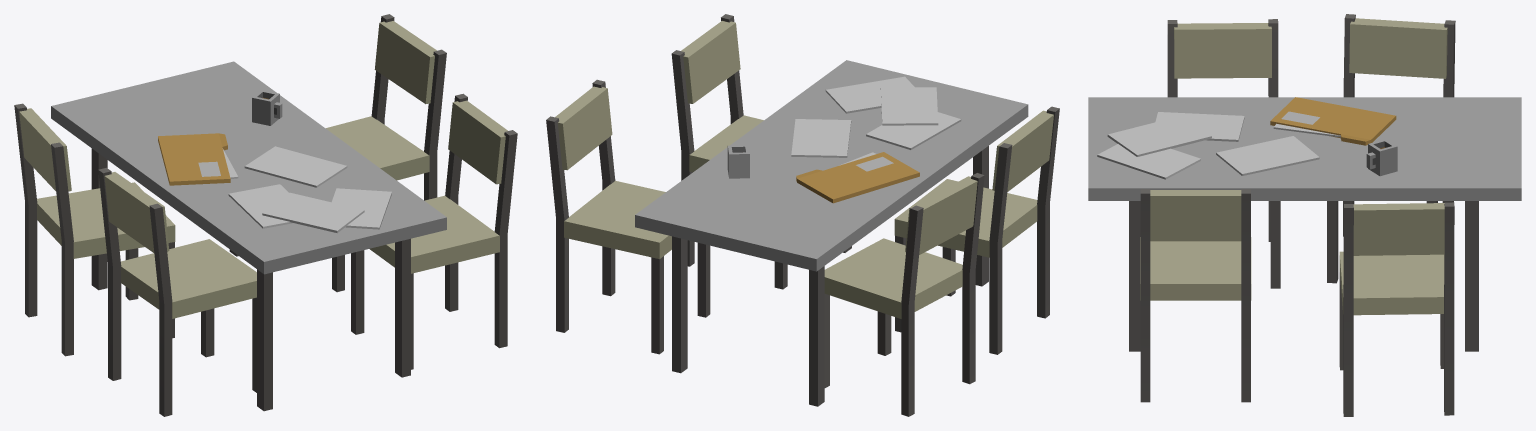
File: SO_TablePreset_02.fbx
The picture shows the model from 3 angles, left to right: view 1: azimuth 30°, elevation 25°; view 2: azimuth 150°, elevation 25°; view 3: azimuth 270°, elevation 25°; orthographic projection. The views are drawn at different scales.
Parts seen in each view (by area): view 1: SO_TablePreset_02; view 2: SO_TablePreset_02; view 3: SO_TablePreset_02.
Boxes of the visible parts, box(x1,y1,x2,y2) form: SO_TablePreset_02: box(14, 14, 517, 416); SO_TablePreset_02: box(546, 14, 1059, 416); SO_TablePreset_02: box(1088, 14, 1521, 416).
Bounding box in the file's own units: 3.83 × 1.97 × 3.61.
